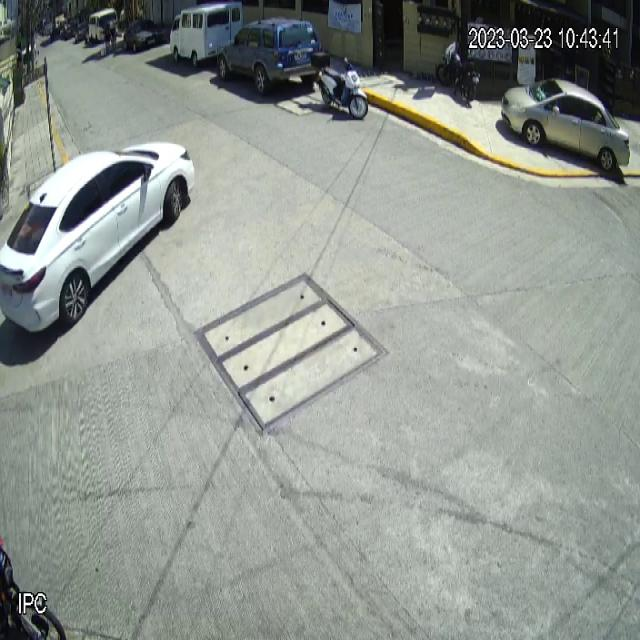Car: (0, 140, 196, 333), (501, 77, 632, 175), (216, 15, 322, 96)
Motorcycle: (308, 51, 369, 120)
Van: (169, 0, 245, 68)
